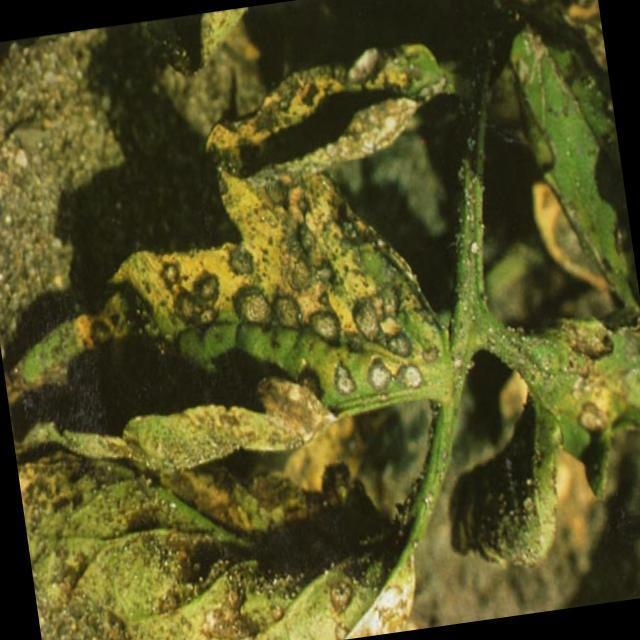Septoria: (180, 246, 424, 421)
